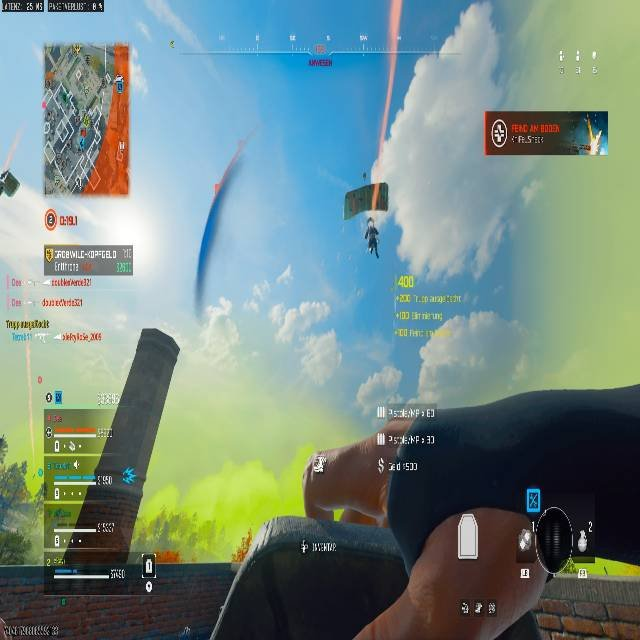player: (363, 222, 380, 258)
